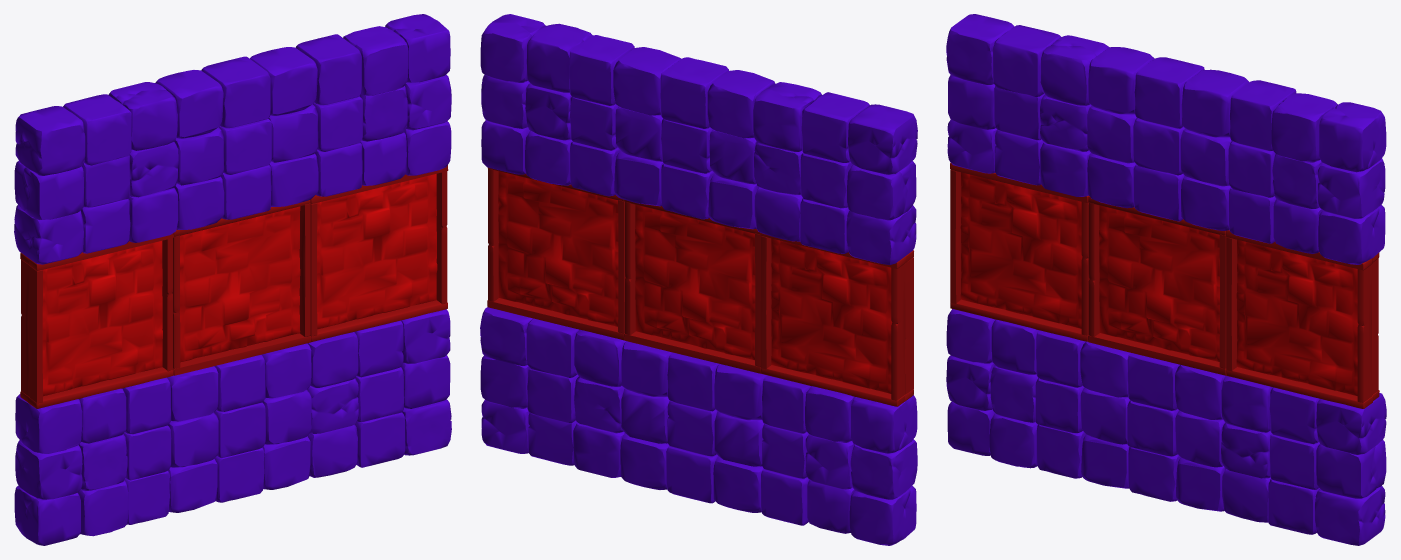
Rendered from wall02.fbx.
The picture shows the model from 3 angles, left to right: view 1: azimuth 30°, elevation 25°; view 2: azimuth 150°, elevation 25°; view 3: azimuth 330°, elevation 25°; orthographic projection.
Parts seen in each view (by area): view 1: wall02; view 2: wall02; view 3: wall02.
Part boxes in pixels (left/top/right/bottom): wall02: left=14, top=14, right=451, bottom=545; wall02: left=480, top=14, right=917, bottom=545; wall02: left=946, top=14, right=1386, bottom=545.
Bounding box in the file's own units: 11.69 × 11.32 × 1.36.
